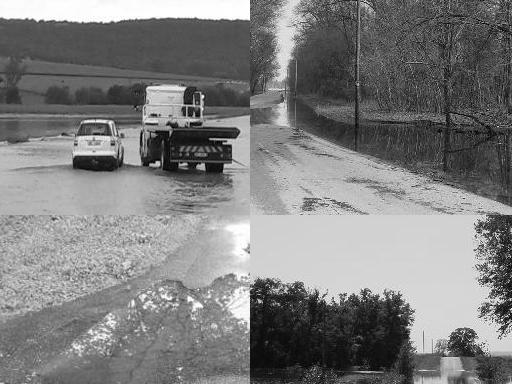road_waterlogging: (0, 186, 250, 215), (152, 292, 250, 363), (0, 113, 69, 178), (388, 124, 496, 164), (250, 360, 391, 384), (402, 365, 512, 384), (250, 96, 320, 125), (218, 95, 250, 154)
